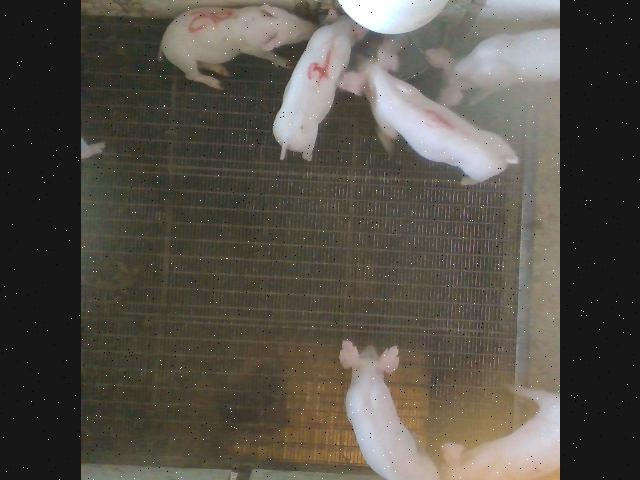pig-1: (338, 39, 517, 184)
pig-2: (439, 385, 559, 480)
pig-4: (272, 18, 364, 161)
pig-5: (160, 5, 316, 89)
